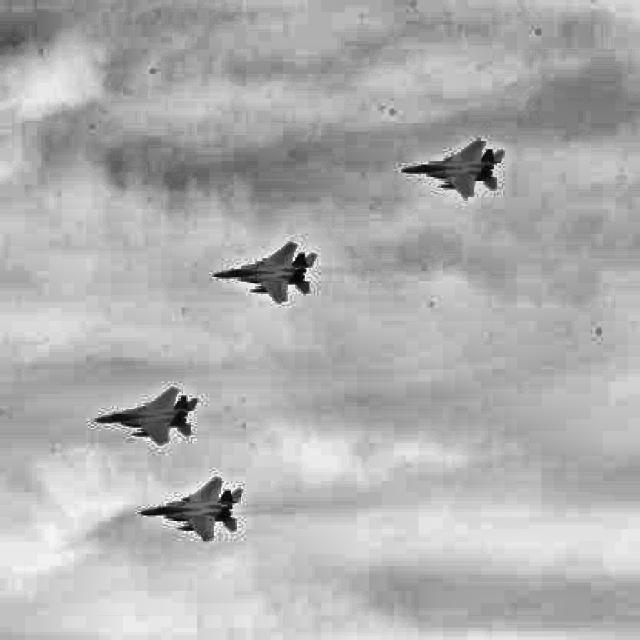F15: (139, 477, 243, 541), (212, 241, 317, 304), (400, 138, 505, 199), (94, 387, 198, 445)
